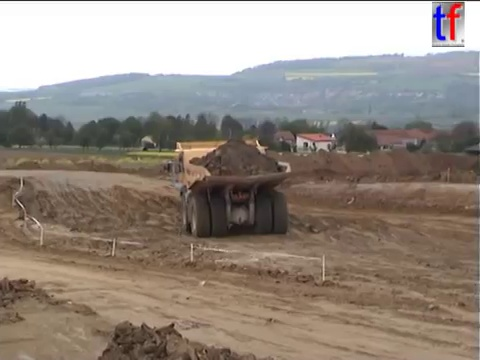truck: (162, 136, 294, 238)
